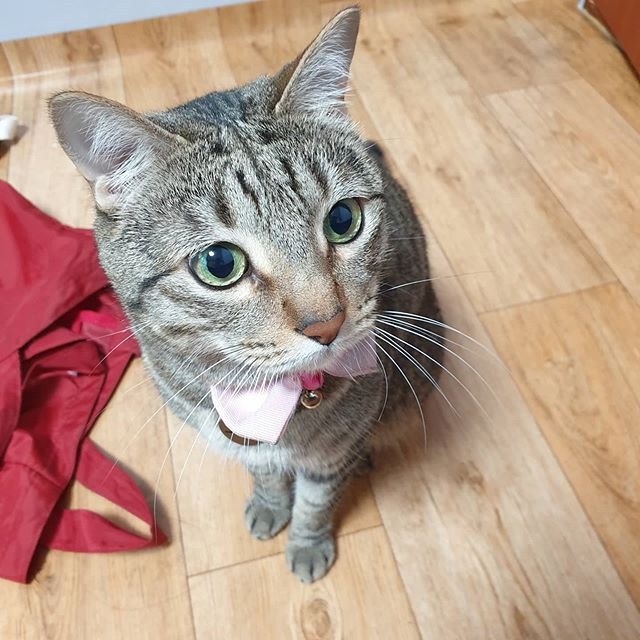cat: (42, 21, 402, 383)
